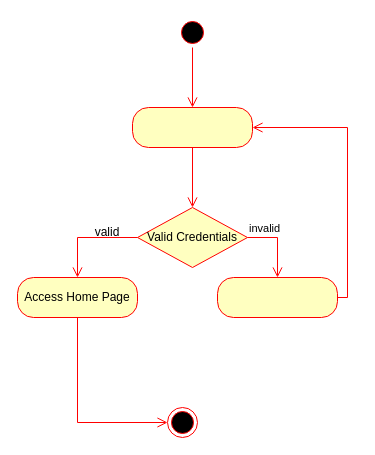
The diagram is 375 pixels wide and 455 high, and some of its shapes have lost their labels. The box of each missing label's shape, as (x1, y1, x2, y2) in pixels:
Enter Email & password: (132, 106, 252, 148)
Show Error Message: (216, 276, 338, 318)
